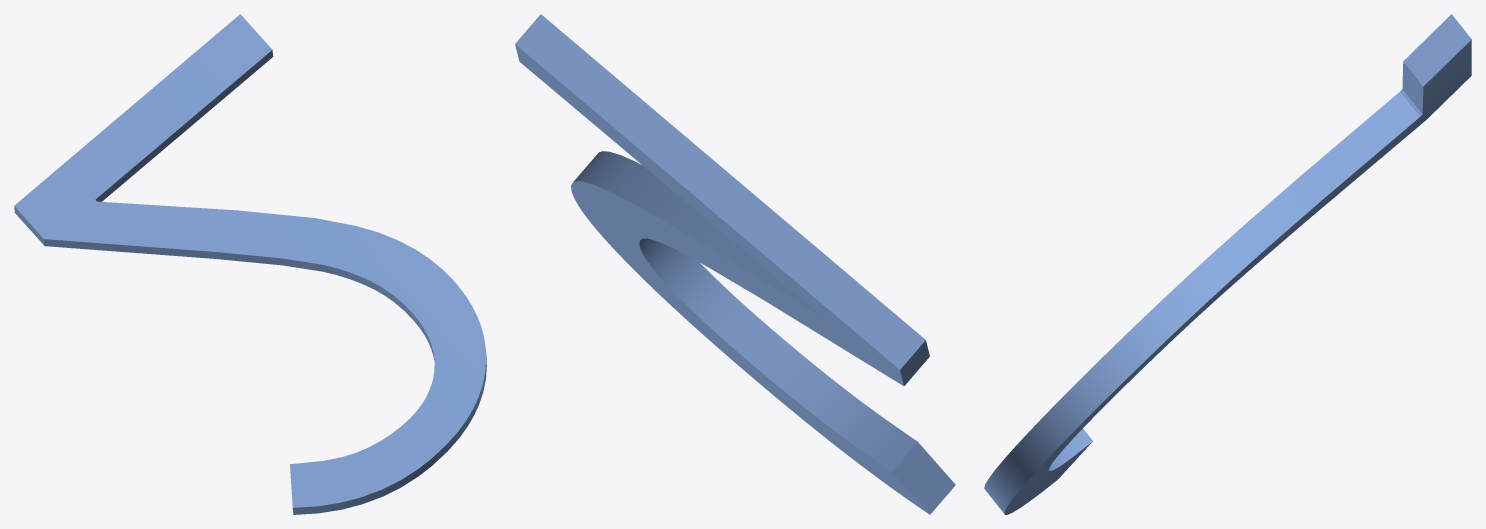
The model's file is New_Number_2.gltf.
3 views of the same model, side by side, from view 1: azimuth 30°, elevation 25°; view 2: azimuth 150°, elevation 25°; view 3: azimuth 270°, elevation 25° (orthographic). The views are drawn at different scales.
Parts seen in each view (by area): view 1: Part 398; view 2: Part 398; view 3: Part 398.
Boxes of the visible parts, x1,y1,x2,y2 form: Part 398: (14, 14, 486, 514); Part 398: (515, 14, 955, 514); Part 398: (984, 14, 1471, 514).
Bounding box in the file's own units: 0.00422 × 0.00456 × 0.00383.
